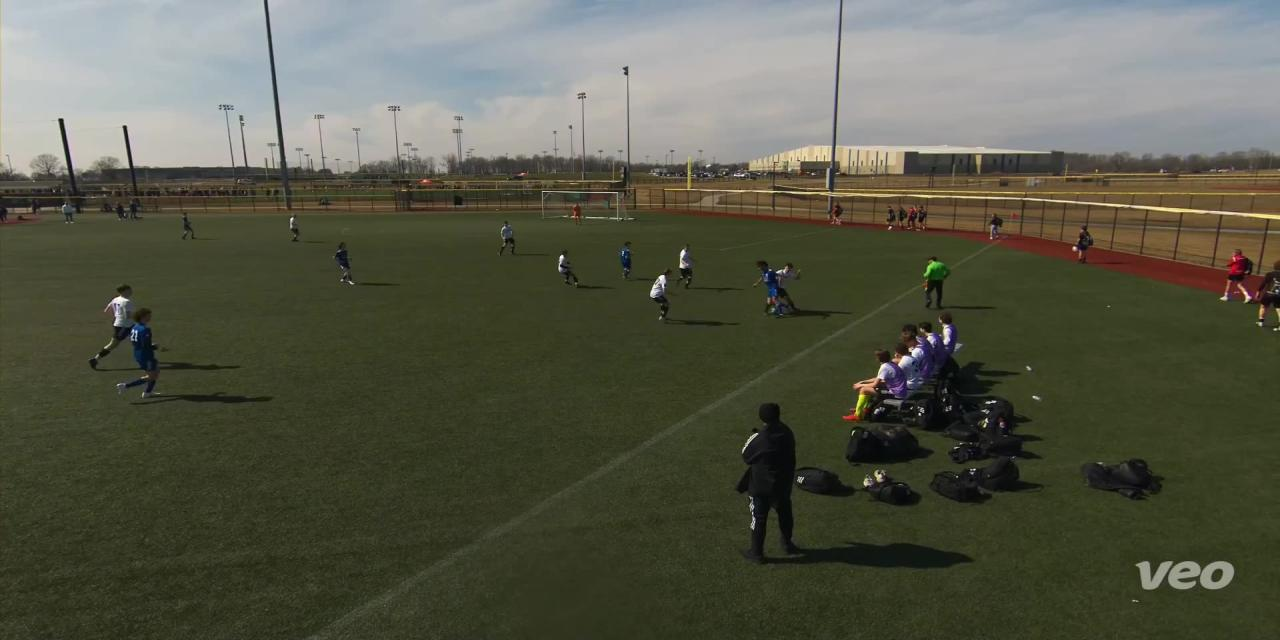goal: (535, 185, 642, 229)
sports ball: (764, 300, 784, 317)
